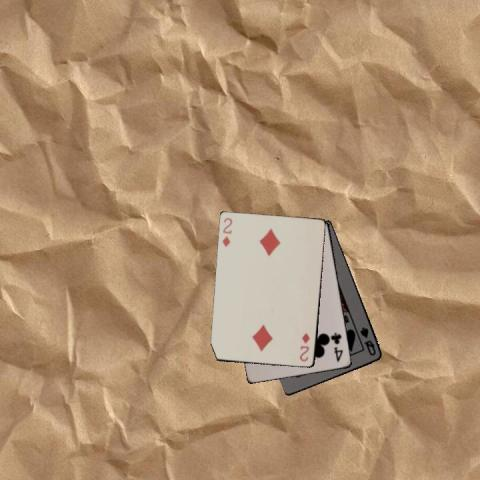2d: (298, 330, 312, 363), (220, 214, 233, 248)
4c: (328, 330, 344, 364)
Qs: (358, 324, 378, 357)
